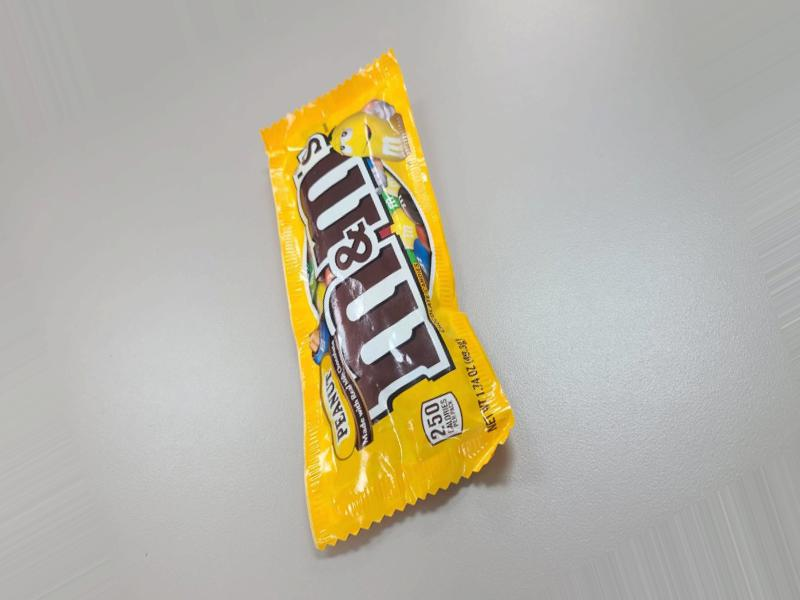m&m: (268, 135, 490, 489)
